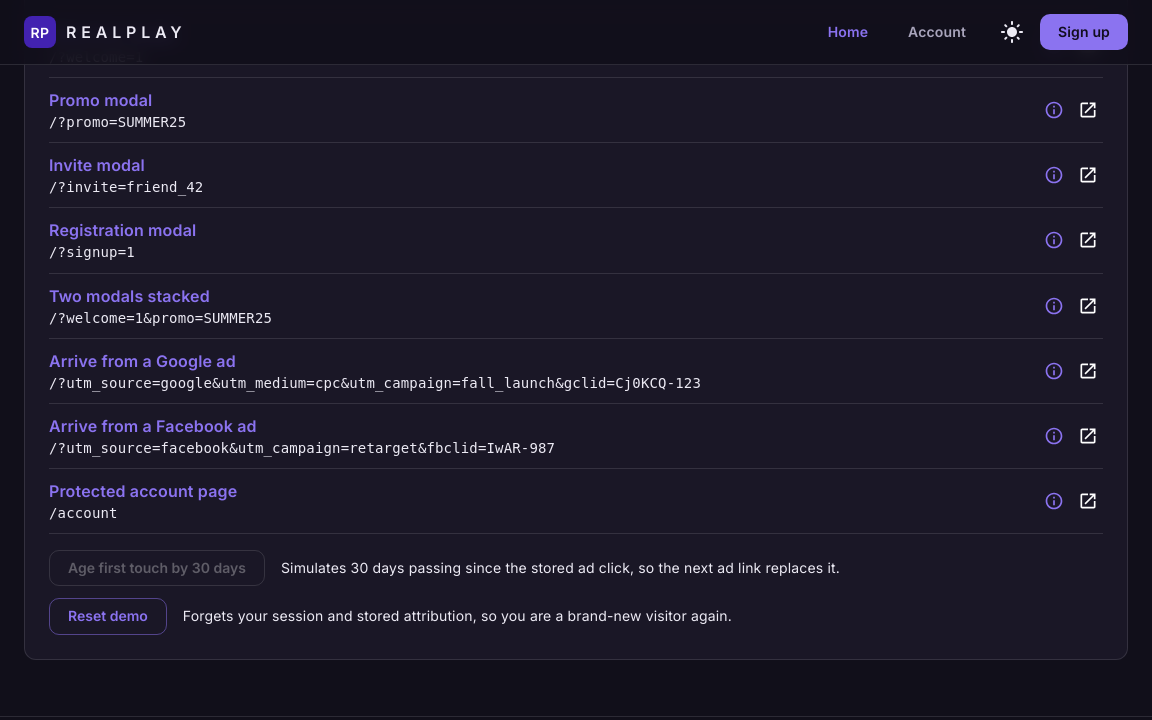
Test: Try it panel › updates the status right after an ad link is clicked
(page scrolled)
Click the link "Arrive from a Google ad" at x=142, y=360, box [49, 350, 236, 370]
(page scrolled)
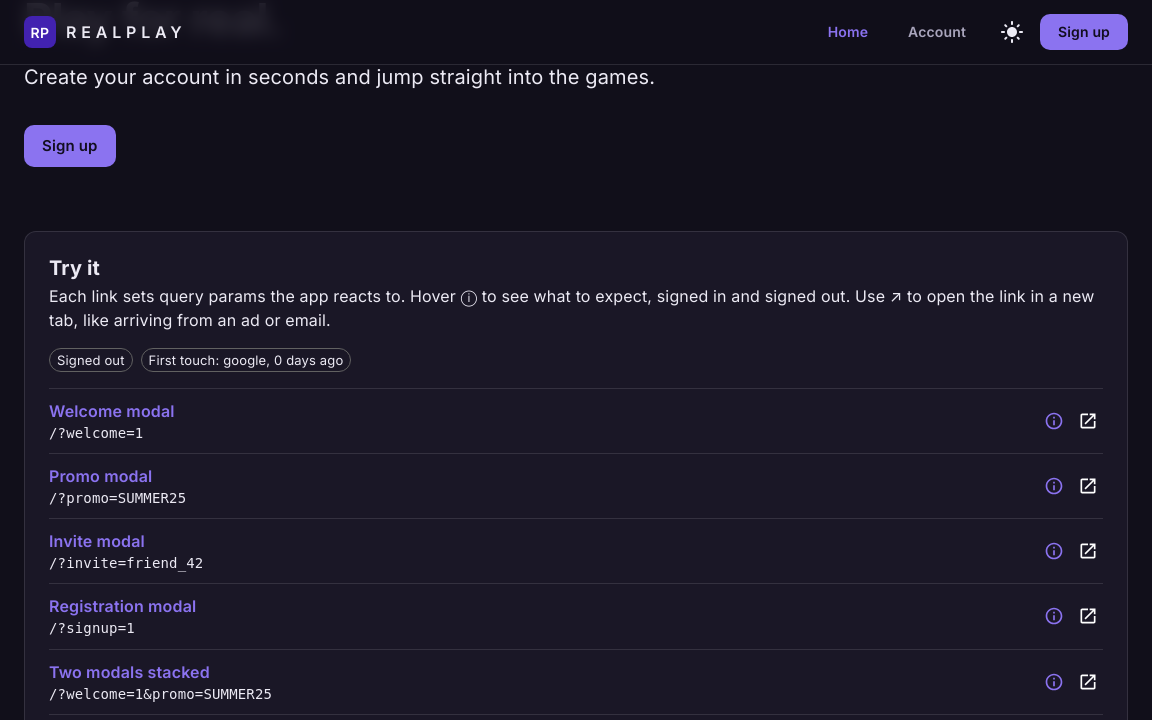
Expected: the message shows "First touch: google, 0 days ago", [149, 352, 343, 368]
